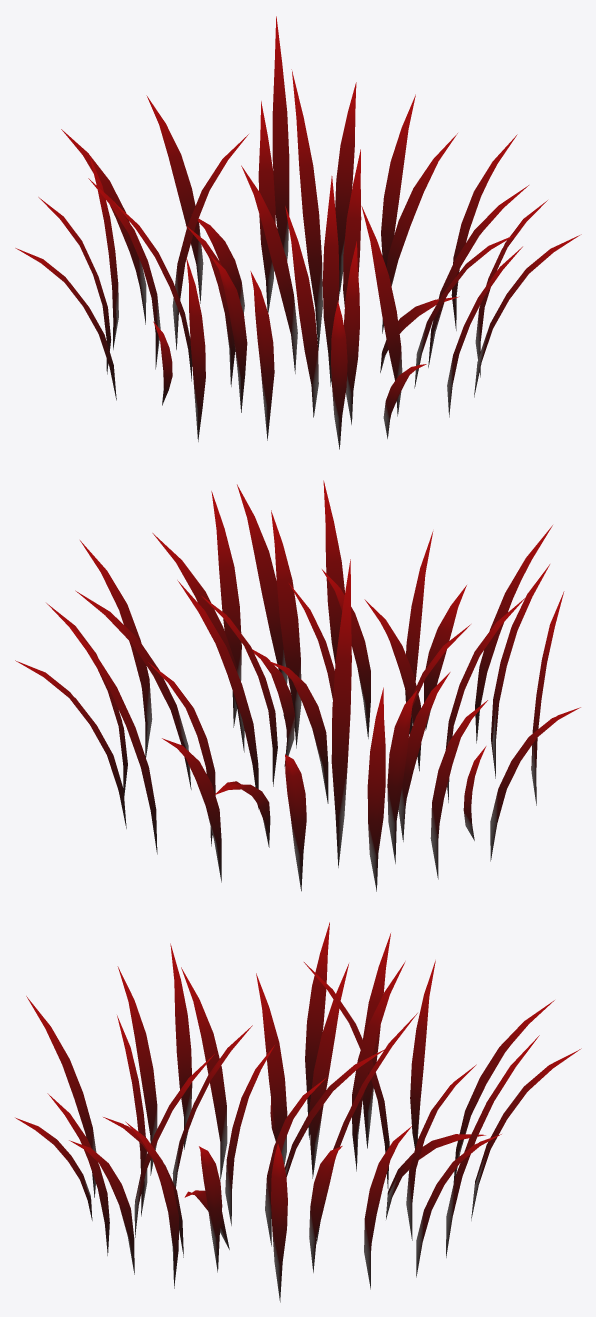
The model's file is Grass.fbx.
3 views of the same model, one above another, from view 1: azimuth 30°, elevation 25°; view 2: azimuth 150°, elevation 25°; view 3: azimuth 270°, elevation 25° (orthographic). The views are drawn at different scales.
Visible parts, largest first — view 1: Grass; view 2: Grass; view 3: Grass.
Part boxes in pixels (x1,y1,x2,y2): Grass: (15,16,581,449); Grass: (15,480,580,891); Grass: (15,922,581,1302).
Size of the model in its own units: 4.37 by 2.11 by 4.4.
